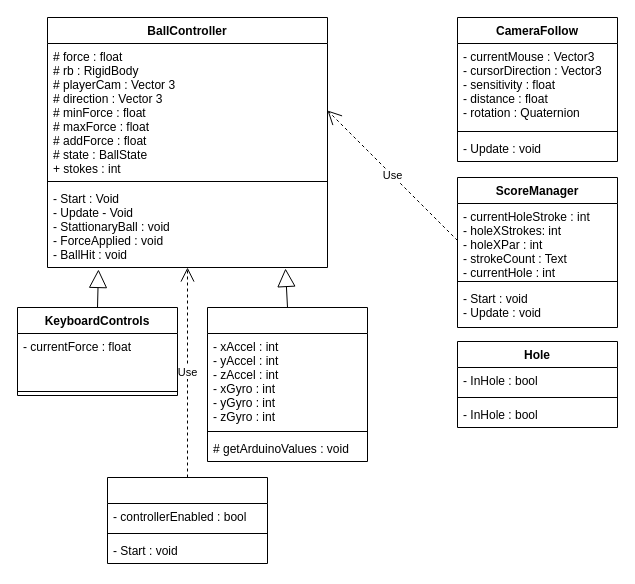
This 635x584 diagram has some shape labels left out. Here are the shapes that lost their labels. From the top down, the box of each, then its label:
(206, 306, 368, 462): ArduinoControls
(106, 476, 268, 564): BallManager
